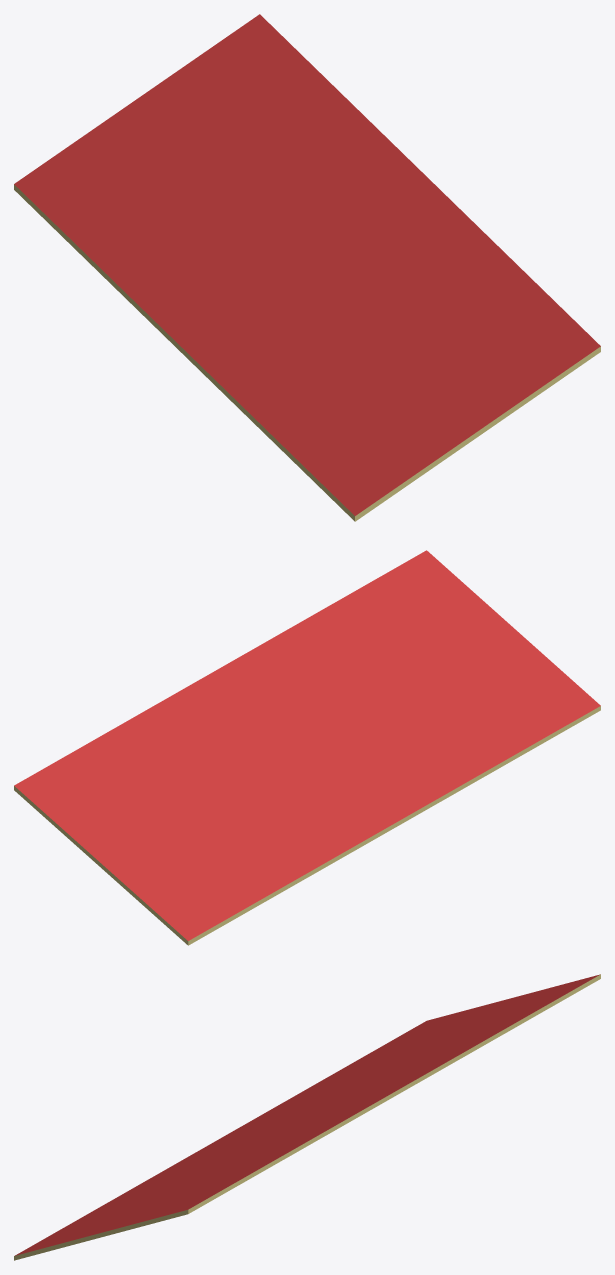
3 views of the same model, one above another, from view 1: azimuth 30°, elevation 25°; view 2: azimuth 150°, elevation 25°; view 3: azimuth 330°, elevation 25° (orthographic). The views are drawn at different scales.
Bounding box in the file's own units: 5.84 × 14.16 × 2.31.
